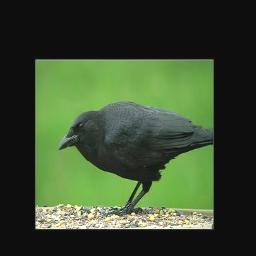Crow: (57, 101, 214, 219)
